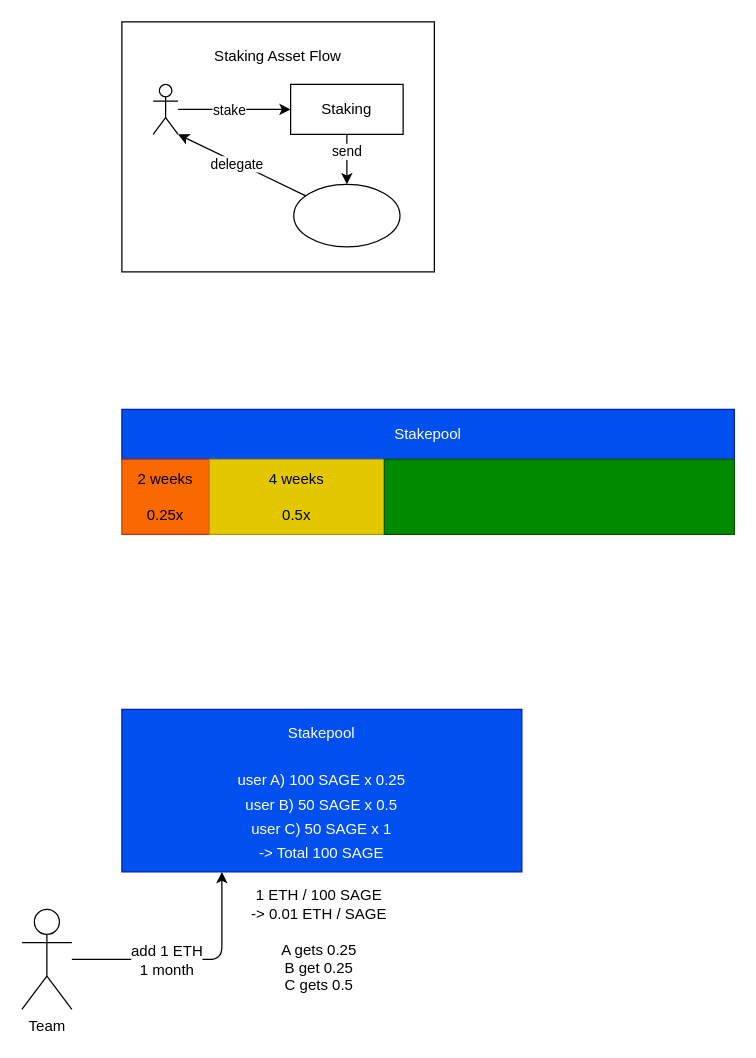
Some shapes in this 756 by 1058 pixel diagram are drawn without their labels. Here are the shapes that lost their labels. From the top down, the centre of each, then its label:
the point at 165,108: Actor
the point at 346,215: Escrow
the point at 558,496: 6 weeks 1x
